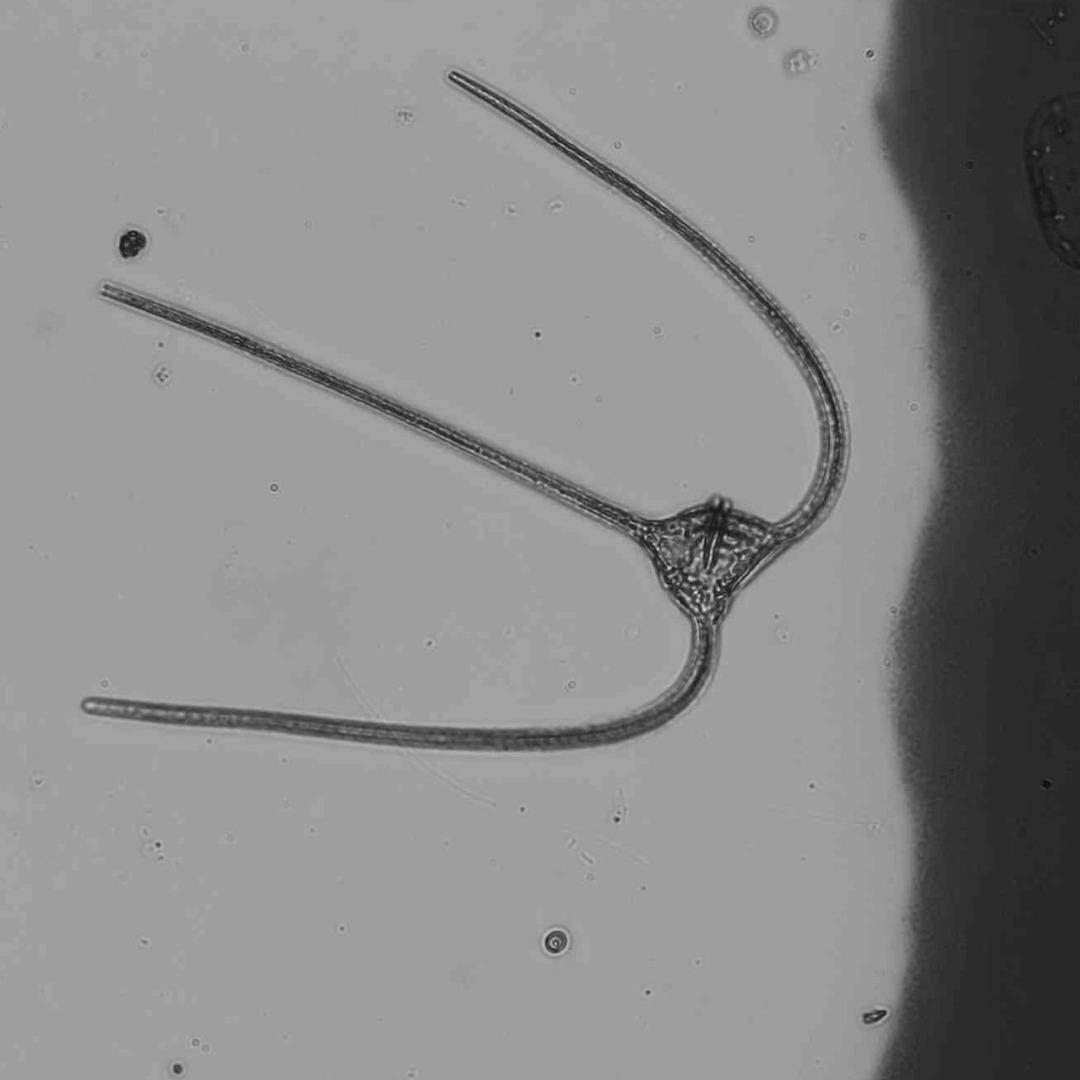ceratium_trichorecos: (78, 69, 850, 755)
